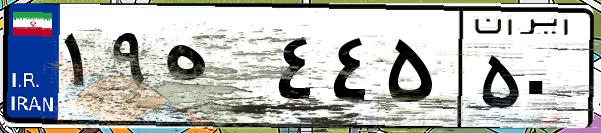0: (525, 38, 570, 115)
1: (57, 26, 110, 100)
4: (270, 28, 330, 110), (330, 28, 385, 110)
5: (385, 28, 445, 110), (475, 38, 525, 113)
9: (110, 28, 158, 98)
ه: (158, 20, 270, 120)
